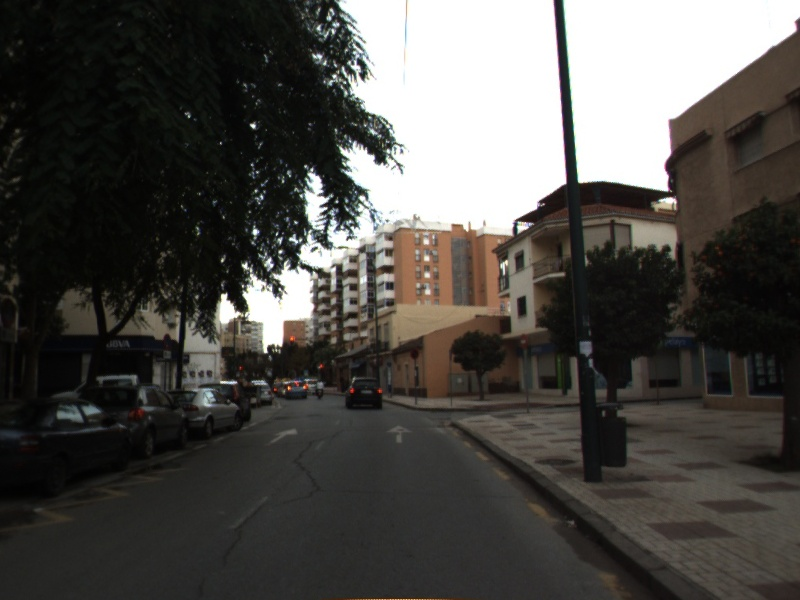STRAIGHT: (384, 423, 415, 445), (268, 426, 299, 445)
